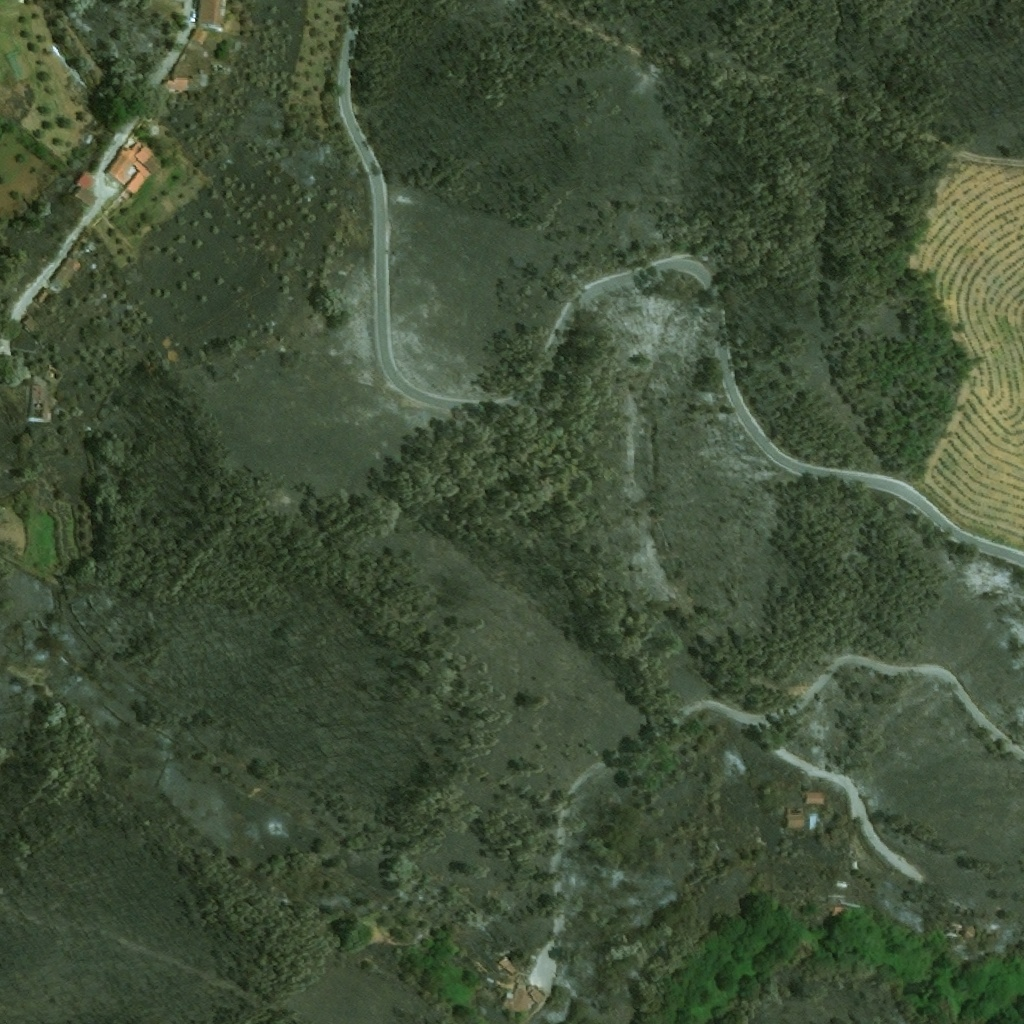0 no-damage: (107, 138, 145, 186), (165, 57, 208, 93), (134, 141, 169, 184), (502, 985, 544, 1014), (74, 172, 98, 209), (197, 0, 224, 25), (499, 954, 521, 975), (829, 908, 850, 920), (187, 28, 202, 44)
1 minor-damage: (48, 256, 81, 291), (34, 287, 56, 307), (785, 808, 805, 830), (21, 314, 41, 334), (806, 791, 823, 803), (809, 816, 817, 831)
2 major-damage: (27, 387, 52, 422), (42, 367, 63, 388), (948, 923, 975, 937), (76, 235, 90, 250)
